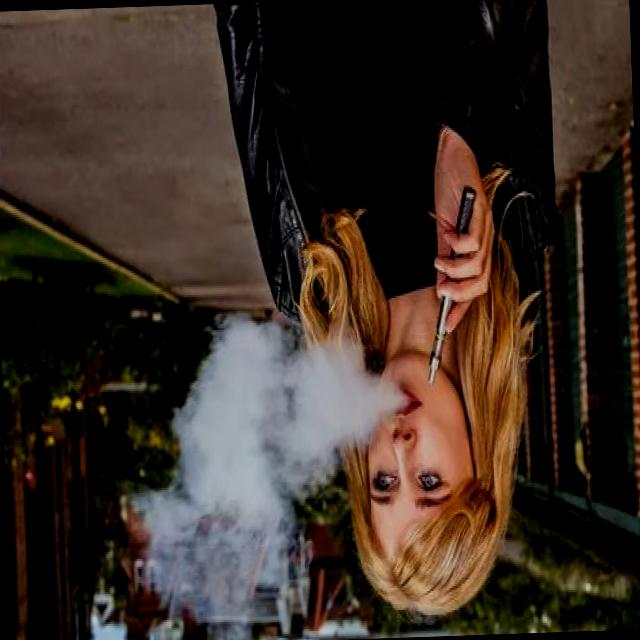cigarette: (417, 180, 482, 387)
